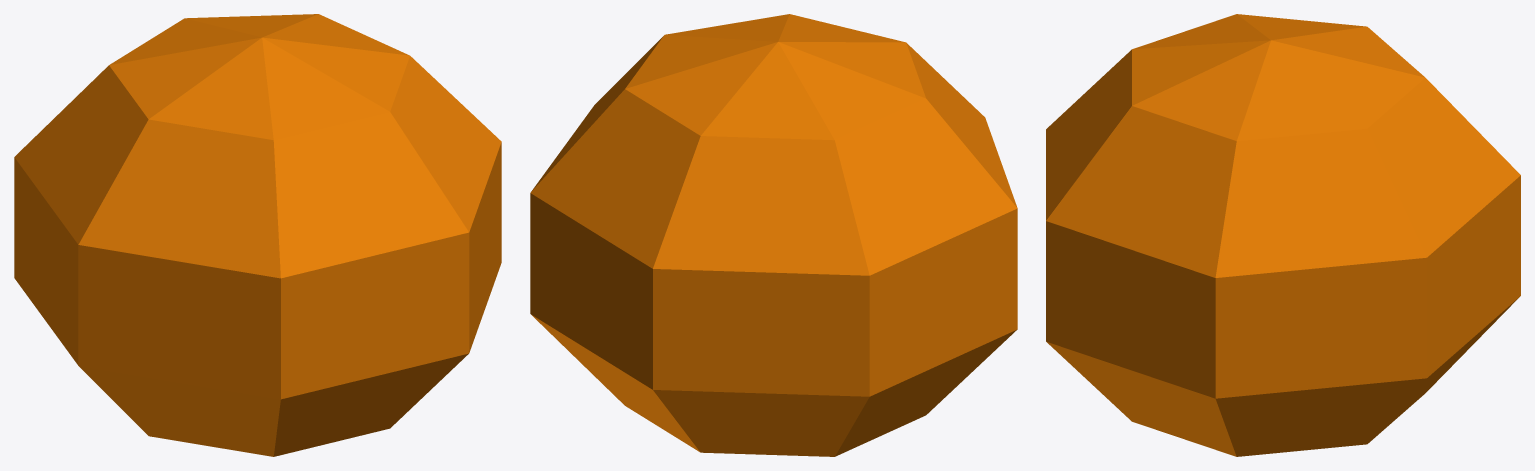
The model's file is orange.fbx.
The picture shows the model from 3 angles, left to right: view 1: azimuth 30°, elevation 25°; view 2: azimuth 150°, elevation 25°; view 3: azimuth 270°, elevation 25°; orthographic projection.
Parts seen in each view (by area): view 1: Orange; view 2: Orange; view 3: Orange.
Part boxes in pixels (x1,y1,x2,y2): Orange: (14,14,501,456); Orange: (530,14,1017,456); Orange: (1046,14,1520,456).
Bounding box in the file's own units: 31.34 × 27.7 × 30.55.
